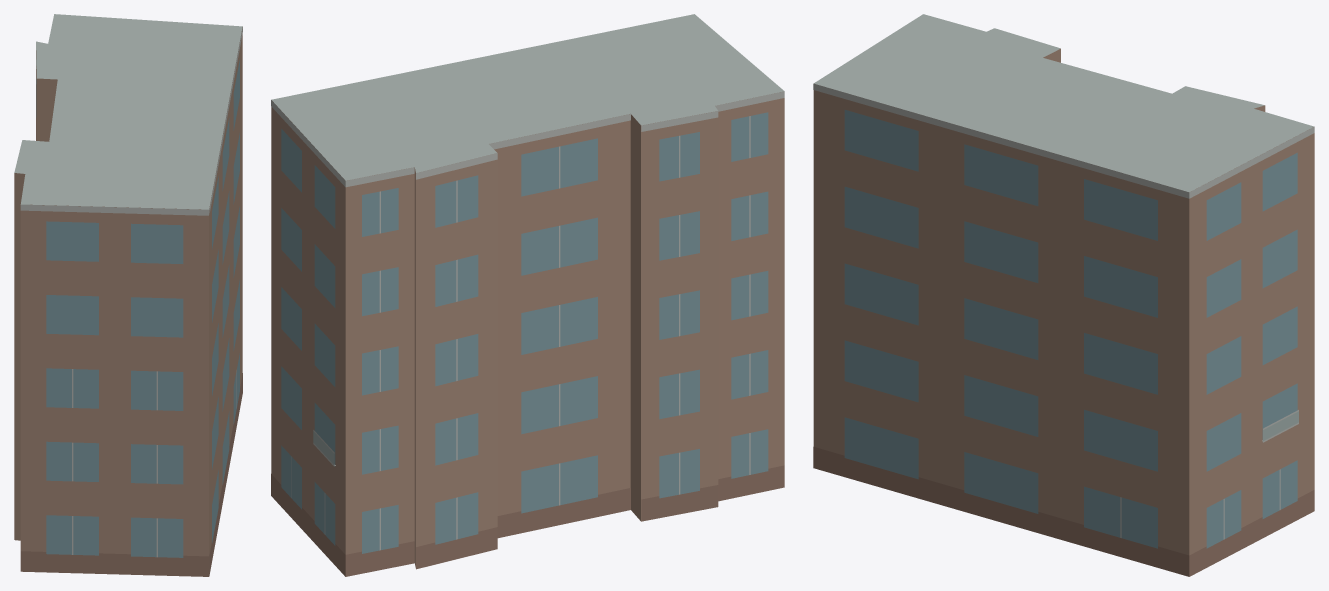
The model's file is survey-upis-32889920.glb.
3 renders of one model, left to right at view 1: azimuth 30°, elevation 25°; view 2: azimuth 150°, elevation 25°; view 3: azimuth 270°, elevation 25°, orthographic. The views are drawn at different scales.
Parts seen in each view (by area): view 1: survey-upis-32889920.tmp; view 2: survey-upis-32889920.tmp; view 3: survey-upis-32889920.tmp.
Boxes of the visible parts, x1,y1,x2,y2 form: survey-upis-32889920.tmp: (14,14,242,576); survey-upis-32889920.tmp: (271,14,784,576); survey-upis-32889920.tmp: (813,14,1314,576).
Size of the model in its own units: 14.53 by 14.6 by 17.25.
